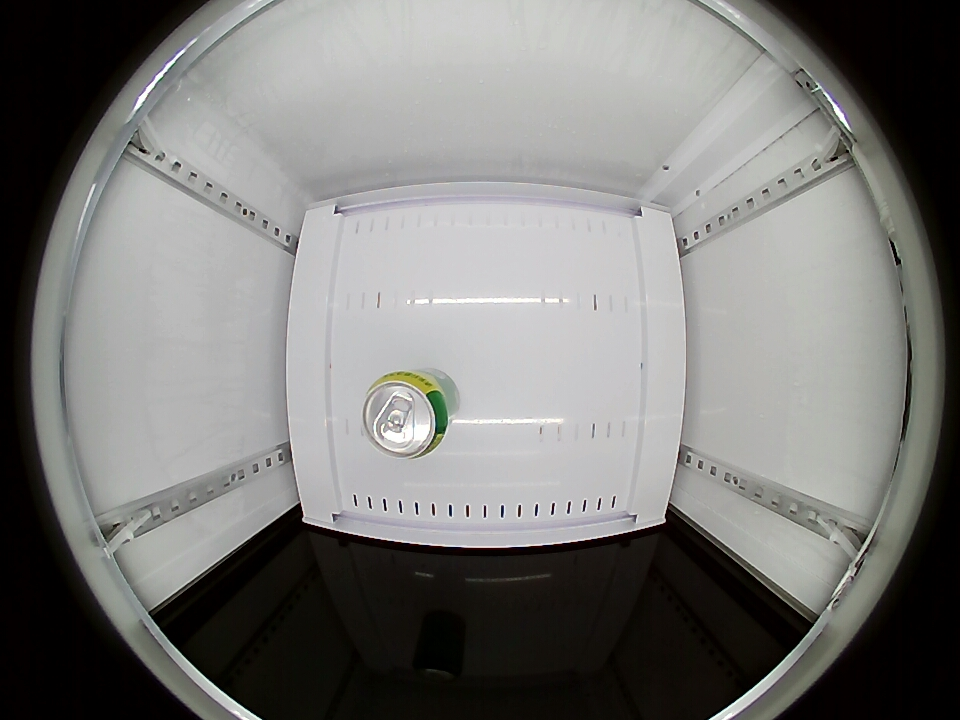xuebi2: (362, 370, 455, 460)
